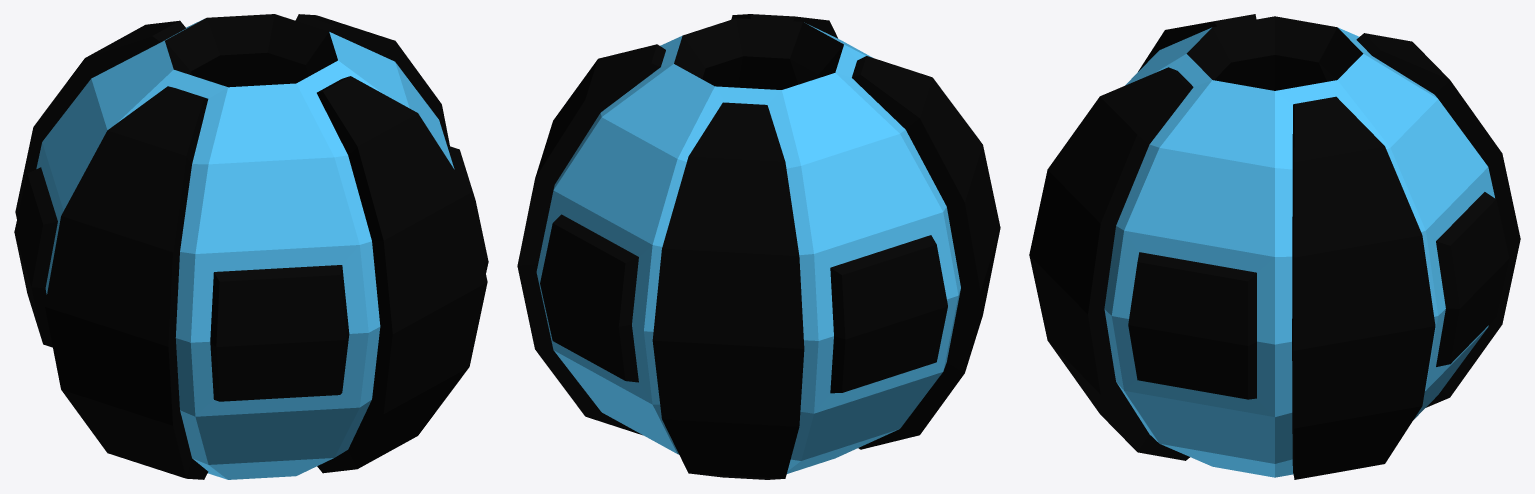
File: ball.glb
3 renders of one model, left to right at view 1: azimuth 30°, elevation 25°; view 2: azimuth 150°, elevation 25°; view 3: azimuth 270°, elevation 25°, orthographic.
Parts seen in each view (by area): view 1: Sphere; view 2: Sphere; view 3: Sphere.
Boxes of the visible parts, x1=… form: Sphere: x1=14, y1=14, x2=488, y2=479; Sphere: x1=517, y1=14, x2=1000, y2=479; Sphere: x1=1029, y1=14, x2=1520, y2=479.
Size of the model in its own units: 1.06 by 0.9239 by 1.06.
